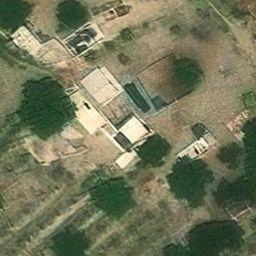manzanas: (66, 64, 156, 170)
